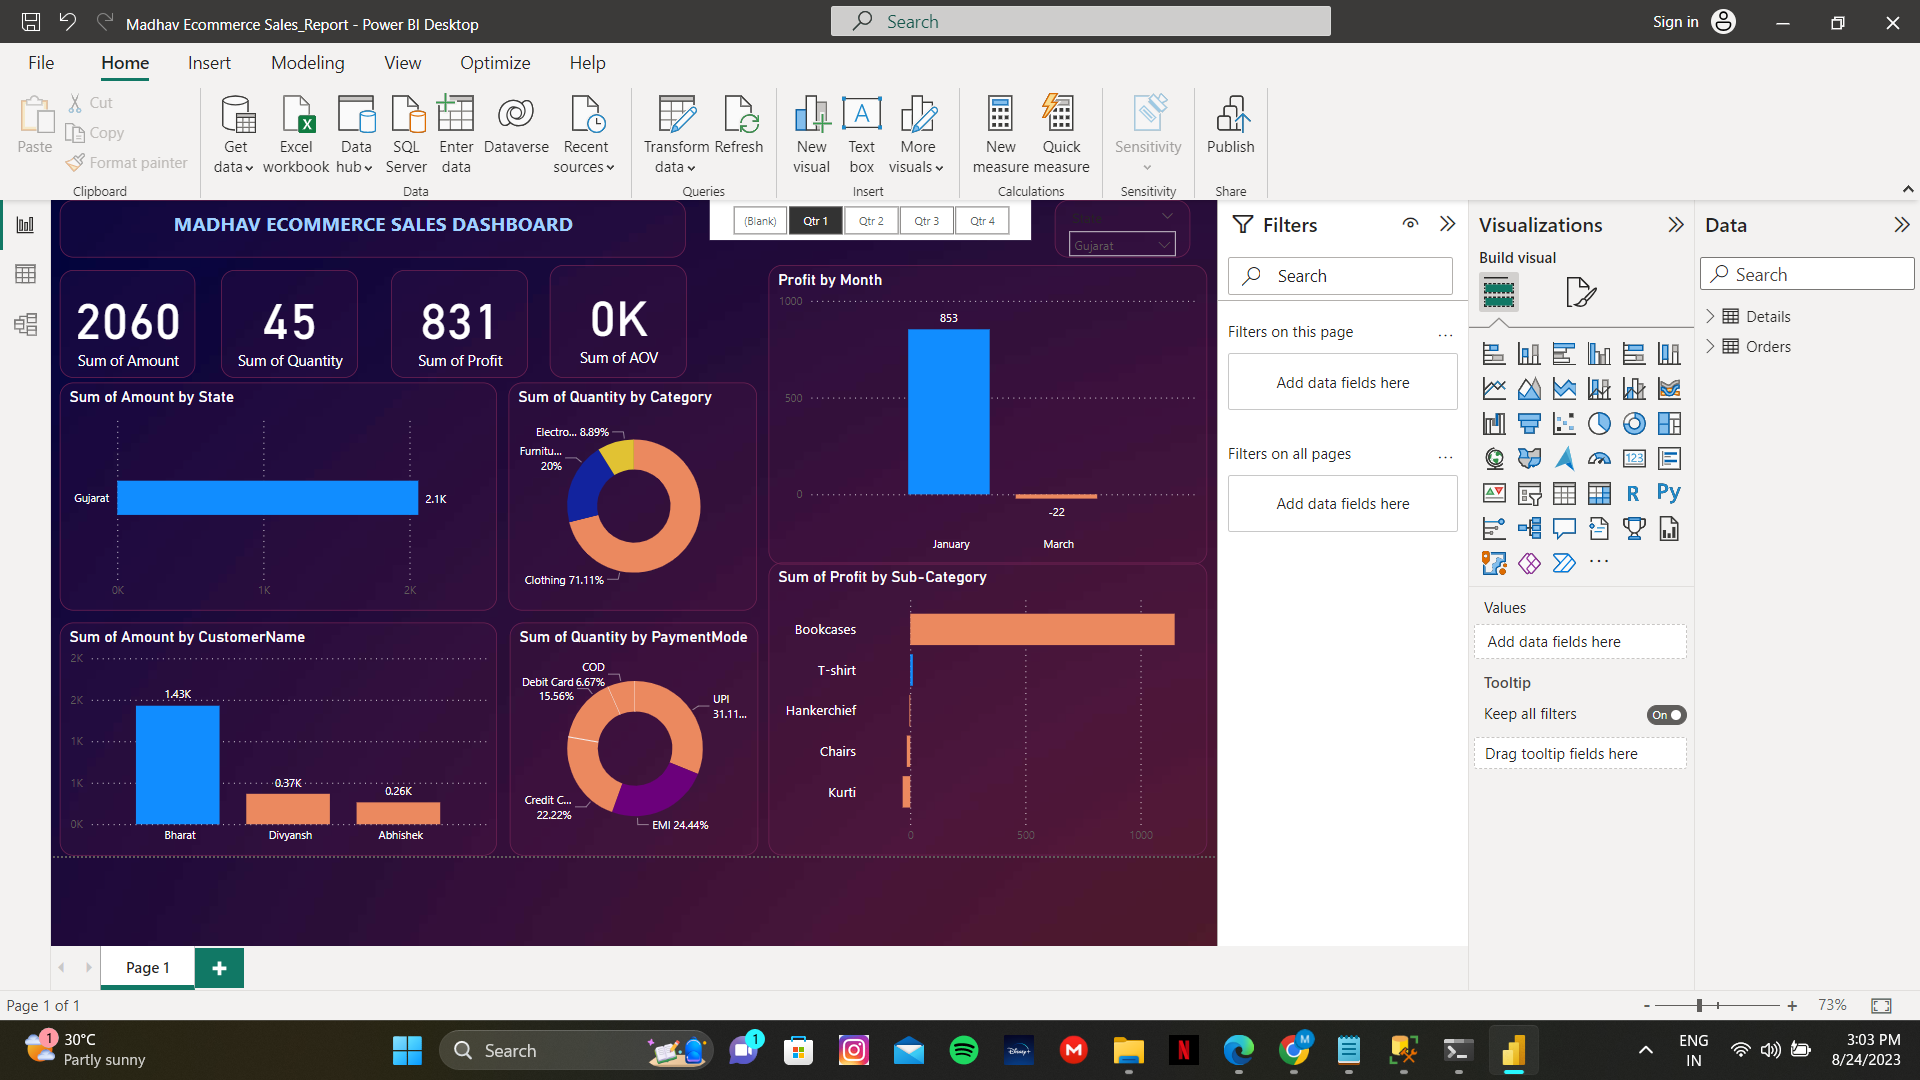

The dashboard page shown, as its layout file describes it:
{"tool":"powerbi","page":{"name":"Page 1","canvas":[1280,720],"ordinal":0},"visuals":[{"type":"textbox","box":[10,0,687.1,62.9],"z":0},{"type":"columnChart","title":"Profit by Month","fields":{"Y":["Sum(Details.Profit)"],"Category":["Orders.Order Date.Variation.Date Hierarchy.Month"]},"box":[787.1,71.4,481.4,328.6],"z":1000},{"type":"barChart","fields":{"Category":["Details.Sub-Category"],"Y":["Sum(Details.Profit)"]},"box":[787.1,398.6,481.4,321.4],"z":2000},{"type":"donutChart","fields":{"Category":["Details.Category"],"Y":["Sum(Details.Quantity)"]},"box":[502.9,200,272.9,250],"z":3000},{"type":"donutChart","fields":{"Y":["Sum(Details.Quantity)"],"Category":["Details.PaymentMode"]},"box":[504.3,464.3,272.9,255.7],"z":4000},{"type":"card","fields":{"Values":["Sum(Details.Amount)"]},"box":[10,77.1,148.6,118.6],"z":5000},{"type":"card","fields":{"Values":["Sum(Details.Quantity)"]},"box":[187.1,77.1,150,118.6],"z":6000},{"type":"card","fields":{"Values":["Sum(Details.Profit)"]},"box":[372.9,77.1,150,118.6],"z":7000},{"type":"card","fields":{"Values":["Sum(Details.AOV)"]},"box":[547.1,71.4,150,124.3],"z":8000},{"type":"barChart","fields":{"Category":["Orders.State"],"Y":["Sum(Details.Amount)"]},"box":[10,200,480,250],"z":9000},{"type":"columnChart","fields":{"Category":["Orders.CustomerName"],"Y":["Sum(Details.Amount)"]},"box":[10,464.3,480,255.7],"z":10000},{"type":"slicer","fields":{"Values":["Orders.Order Date.Variation.Date Hierarchy.Quarter"]},"box":[722.9,0,352.9,44.3],"z":11000},{"type":"slicer","fields":{"Values":["Orders.State"]},"box":[1101.4,0,148.6,62.9],"z":11001}]}

Visuals, with their boxes on the page's 1280x720 design canvas (x1, y1, x2, y2). These are canvas units, not pixel positions in the 1920x1080 screenshot, which may show the page scaled, cropped or inside an application window:
textbox: 10 0 697 63
"Profit by Month" columnChart: 787 71 1268 400
barChart - Details.Sub-Category x Sum(Details.Profit): 787 399 1268 720
donutChart - Details.Category x Sum(Details.Quantity): 503 200 776 450
donutChart - Sum(Details.Quantity) x Details.PaymentMode: 504 464 777 720
card - Sum(Details.Amount): 10 77 159 196
card - Sum(Details.Quantity): 187 77 337 196
card - Sum(Details.Profit): 373 77 523 196
card - Sum(Details.AOV): 547 71 697 196
barChart - Orders.State x Sum(Details.Amount): 10 200 490 450
columnChart - Orders.CustomerName x Sum(Details.Amount): 10 464 490 720
slicer - Orders.Order Date.Variation.Date Hierarchy.Quarter: 723 0 1076 44
slicer - Orders.State: 1101 0 1250 63
